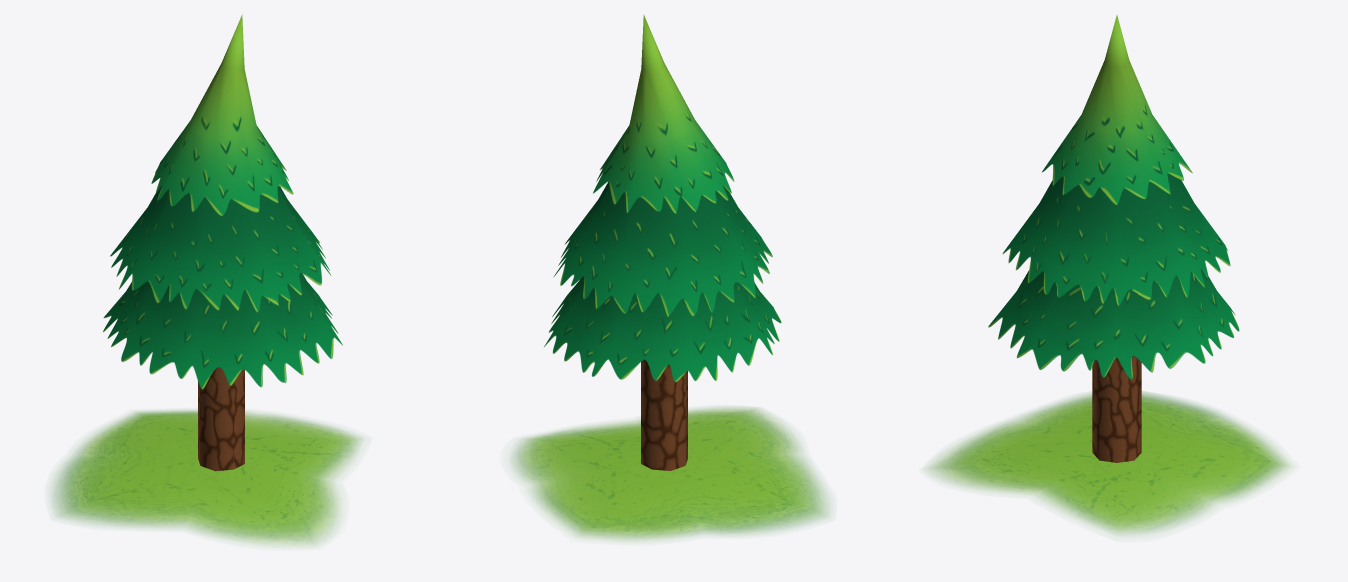
The picture shows the model from 3 angles, left to right: view 1: azimuth 30°, elevation 25°; view 2: azimuth 150°, elevation 25°; view 3: azimuth 270°, elevation 25°; orthographic projection.
Parts seen in each view (by area): view 1: pine001, Plane001; view 2: pine001, Plane001; view 3: pine001, Plane001.
Boxes of the visible parts, x1=… form: pine001: x1=103, y1=14, x2=342, y2=471; Plane001: x1=51, y1=410, x2=363, y2=545; pine001: x1=544, y1=14, x2=781, y2=470; Plane001: x1=510, y1=407, x2=829, y2=541; pine001: x1=988, y1=15, x2=1239, y2=462; Plane001: x1=926, y1=391, x2=1291, y2=535.
Size of the model in its own units: 125 by 150 by 125.
2 materials, 2 textured.
